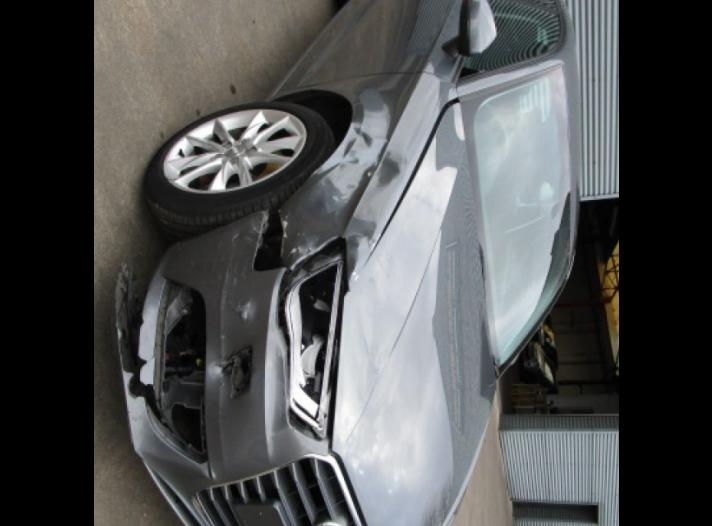Broken part: (249, 72, 459, 346), (114, 264, 168, 459)
Dent: (279, 84, 403, 283), (264, 333, 286, 435), (205, 351, 235, 388), (230, 297, 256, 322), (231, 230, 245, 247)
Missing part: (278, 240, 344, 439), (147, 282, 206, 462), (231, 351, 250, 397)
Scratch: (287, 233, 320, 257), (244, 216, 262, 245), (278, 210, 289, 240), (224, 252, 233, 282), (241, 255, 249, 280), (233, 262, 236, 288)
